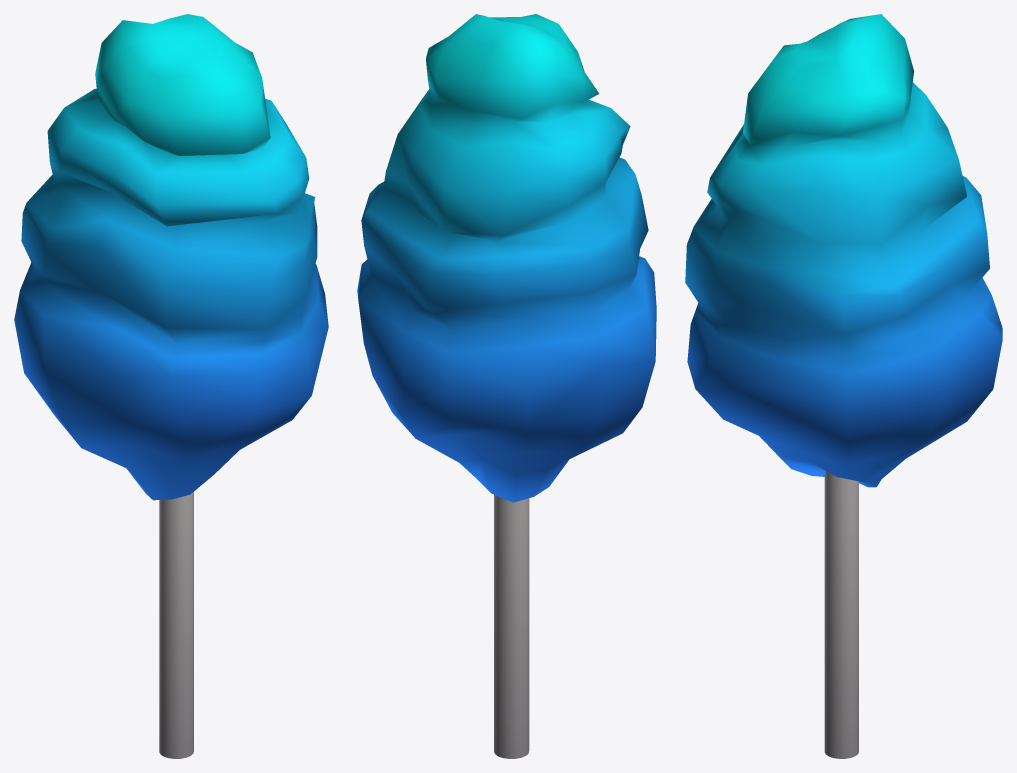
The model's file is Cotton_Candy_Tree_03.fbx.
3 views of the same model, side by side, from view 1: azimuth 30°, elevation 25°; view 2: azimuth 150°, elevation 25°; view 3: azimuth 270°, elevation 25° (orthographic).
Visible parts, largest first — view 1: Cotton_Candy_Tree_03; view 2: Cotton_Candy_Tree_03; view 3: Cotton_Candy_Tree_03.
Part boxes in pixels (left/top/right/bottom): Cotton_Candy_Tree_03: left=14, top=14, right=328, bottom=758; Cotton_Candy_Tree_03: left=357, top=14, right=656, bottom=758; Cotton_Candy_Tree_03: left=685, top=14, right=1002, bottom=758.
Bounding box in the file's own units: 248 × 602 × 239.
